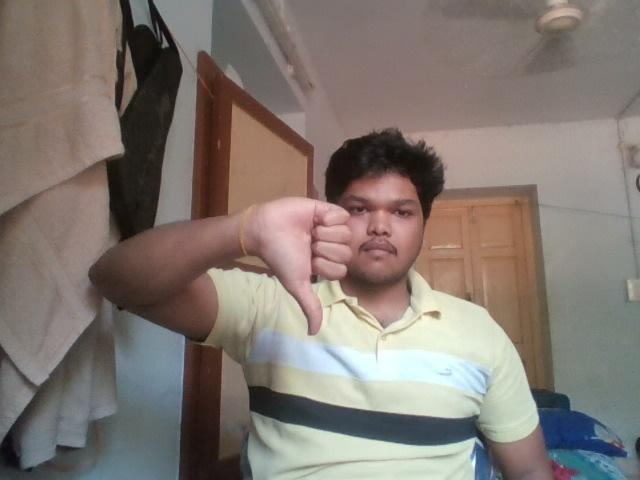no: (226, 168, 359, 339)
